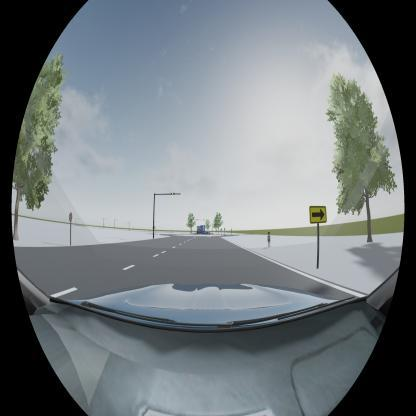Red Light: (171, 191, 176, 196)
